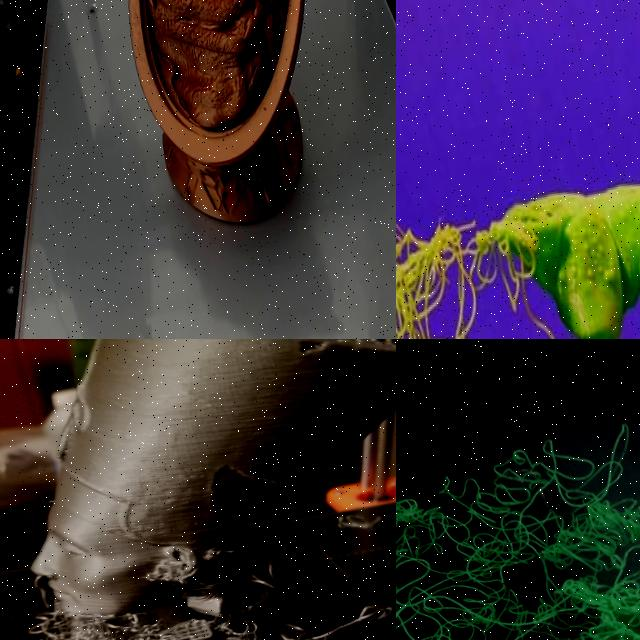spaghetti: (396, 426, 640, 640), (32, 560, 331, 640), (396, 202, 556, 339)
